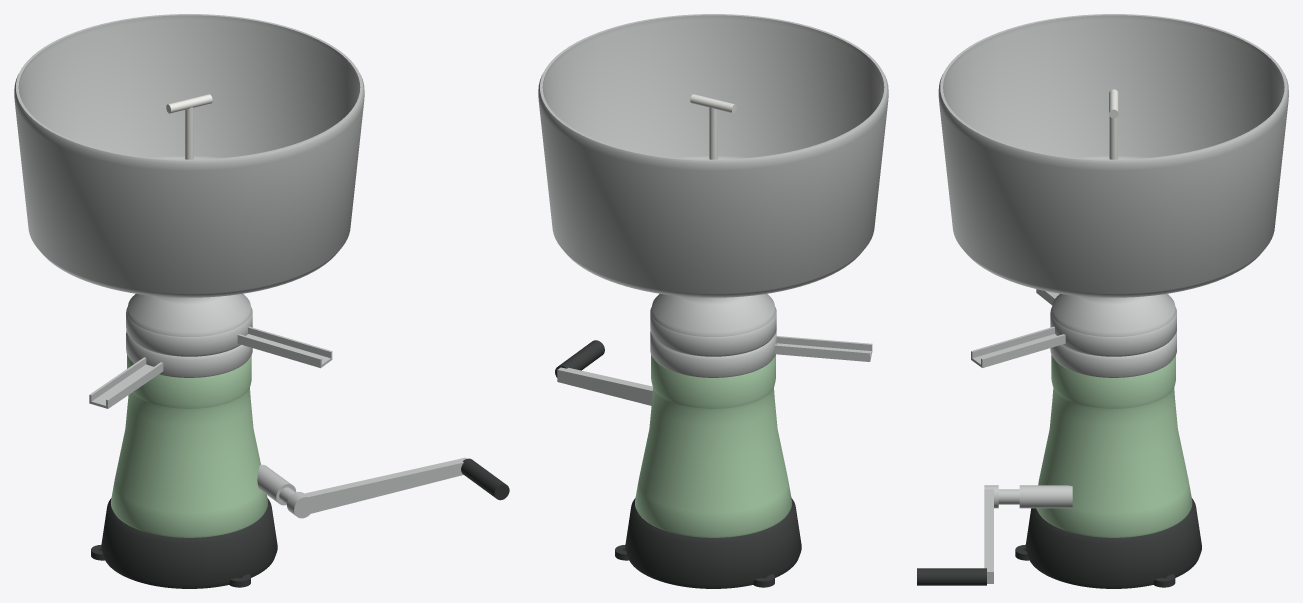
3 views of the same model, side by side, from view 1: azimuth 30°, elevation 25°; view 2: azimuth 150°, elevation 25°; view 3: azimuth 270°, elevation 25° (orthographic).
Visible parts, largest first — view 1: hollow bowl, body shell, foot closed inferred underside, neck, upper casing collar, crank arm, lower collector, upper collector, upper open outlet, lower open outlet, hand grip, fixed drive collar; view 2: hollow bowl, body shell, foot closed inferred underside, neck, upper casing collar, lower collector, upper collector, lower open outlet, crank arm, hand grip, T tap handle, upright tap stem; view 3: hollow bowl, body shell, foot closed inferred underside, neck, upper casing collar, lower collector, upper collector, upper open outlet, fixed drive collar, hand grip, crank arm.
Boxes of the visible parts, <box> form: hollow bowl: <box>14,14,364,297</box>; body shell: <box>111,388,267,537</box>; foot closed inferred underside: <box>101,498,277,588</box>; neck: <box>127,294,251,336</box>; upper casing collar: <box>127,355,251,408</box>; crank arm: <box>303,457,466,514</box>; lower collector: <box>126,331,252,377</box>; upper collector: <box>126,307,252,356</box>; upper open outlet: <box>237,326,332,368</box>; lower open outlet: <box>89,357,163,408</box>; hand grip: <box>461,458,509,500</box>; fixed drive collar: <box>257,464,296,505</box>; hollow bowl: <box>538,14,888,297</box>; body shell: <box>635,388,791,537</box>; foot closed inferred underside: <box>625,498,801,588</box>; neck: <box>651,294,775,336</box>; upper casing collar: <box>651,355,775,408</box>; lower collector: <box>650,331,776,377</box>; upper collector: <box>650,307,776,356</box>; lower open outlet: <box>774,336,872,361</box>; crank arm: <box>557,367,652,405</box>; hand grip: <box>555,340,604,377</box>; T tap handle: <box>690,94,736,113</box>; upright tap stem: <box>709,107,717,159</box>; hollow bowl: <box>938,14,1288,297</box>; body shell: <box>1036,388,1192,537</box>; foot closed inferred underside: <box>1025,498,1201,588</box>; neck: <box>1051,293,1175,336</box>; upper casing collar: <box>1051,355,1175,408</box>; lower collector: <box>1050,331,1176,377</box>; upper collector: <box>1050,307,1176,356</box>; upper open outlet: <box>971,326,1065,367</box>; fixed drive collar: <box>1019,485,1072,508</box>; hand grip: <box>917,568,986,585</box>; crank arm: <box>984,489,993,583</box>.
Bounding box in the file's own units: 0.4495 × 0.535 × 0.3875.
